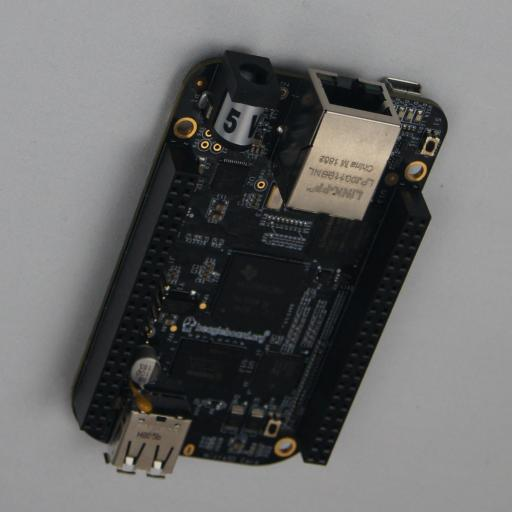Beaglebone Black: (68, 47, 448, 478)
